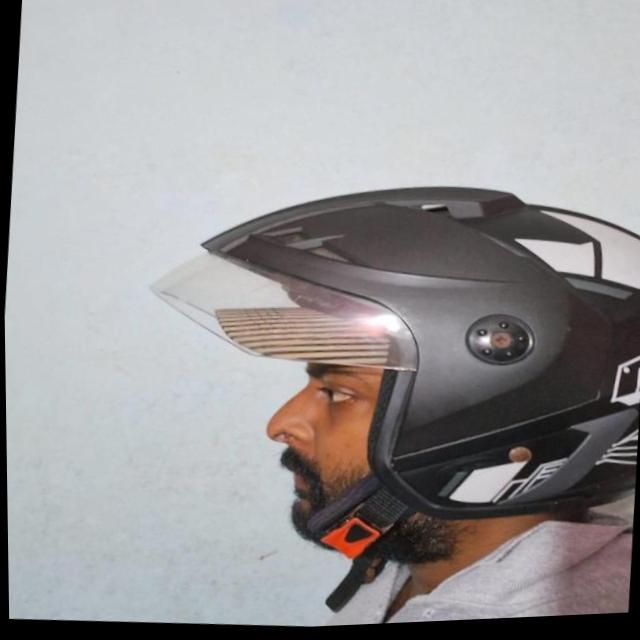helmet: (125, 160, 640, 636)
